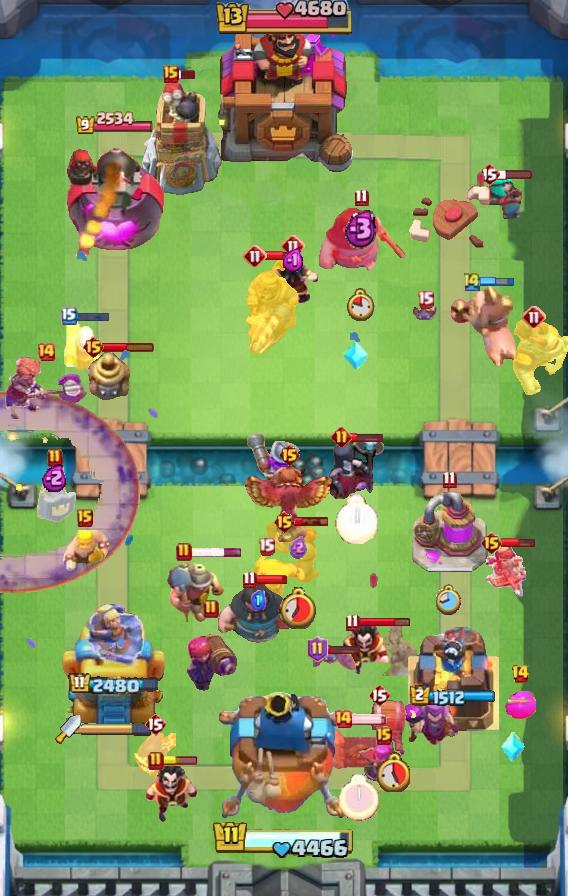archer-evolution: (357, 734, 411, 789)
bar: (102, 341, 155, 353), (358, 617, 411, 628), (190, 547, 243, 558), (350, 713, 388, 725), (497, 168, 533, 180), (501, 537, 536, 549), (349, 431, 384, 443), (75, 310, 110, 322), (265, 250, 301, 261), (326, 644, 361, 655), (294, 516, 329, 527), (480, 276, 515, 287), (254, 574, 288, 585), (162, 756, 198, 766), (177, 69, 197, 80)
bar-level: (522, 305, 546, 329), (243, 244, 267, 268), (281, 234, 305, 258), (480, 531, 503, 555), (273, 510, 296, 534), (278, 443, 301, 467), (82, 335, 105, 359), (307, 636, 328, 662), (144, 712, 166, 736), (368, 683, 390, 707), (478, 162, 500, 186), (331, 426, 352, 447), (462, 271, 482, 292), (333, 709, 353, 729), (36, 342, 56, 362), (511, 664, 530, 684), (258, 537, 275, 556), (417, 290, 434, 309), (148, 751, 164, 771), (203, 599, 219, 619), (176, 542, 192, 562), (47, 448, 63, 468), (376, 727, 392, 745), (77, 509, 93, 527), (61, 307, 77, 325), (163, 65, 179, 83), (345, 613, 360, 632), (242, 570, 257, 589), (442, 470, 457, 489), (354, 188, 369, 207)
barbarian: (58, 530, 112, 576)
barbarian-evolution: (247, 552, 307, 610)
bat: (306, 649, 358, 673), (410, 299, 440, 323)
cannoneer-tower: (64, 138, 165, 256)
clock: (335, 494, 378, 544), (338, 774, 379, 821), (278, 586, 319, 629), (376, 752, 410, 792), (347, 288, 375, 321), (436, 584, 462, 616)
dagger-duchess-tower: (59, 595, 169, 731)
dagger-duchess-tower-bar: (81, 722, 153, 736)
dirt: (379, 623, 417, 676)
electro-spirit: (134, 733, 176, 779)
electro-wizard: (143, 765, 199, 825), (266, 254, 320, 306), (340, 624, 390, 676)
elixir: (344, 208, 378, 249), (42, 463, 68, 492), (282, 248, 305, 273), (289, 536, 307, 559), (251, 590, 266, 610)
elixir-golem-small: (504, 689, 536, 719)
firecracker: (62, 316, 104, 374)
firecracker-evolution: (183, 618, 239, 694)
golemite: (263, 518, 333, 584)
guard: (31, 461, 79, 527)
ice-spirit-evolution-symbol: (342, 338, 370, 372), (500, 731, 526, 763)
king-tower: (211, 7, 357, 181), (219, 692, 349, 826)
king-tower-bar: (212, 819, 356, 861), (213, 0, 355, 38)
mega-minion: (510, 320, 568, 398)
miner: (166, 557, 226, 627)
mother-witch: (400, 695, 462, 749)
musketeer: (245, 431, 301, 495)
night-witch: (325, 435, 387, 505)
princess: (483, 543, 527, 603)
queen-tower: (407, 627, 499, 731)
rascal-girl: (484, 172, 524, 220)
tesla: (322, 724, 394, 772)
tower-bar: (68, 672, 160, 697), (75, 111, 154, 136), (410, 685, 497, 707)
valkyrie-evolution: (4, 355, 88, 422)
wall-breaker: (368, 697, 418, 753)
zappy: (87, 350, 133, 402)
